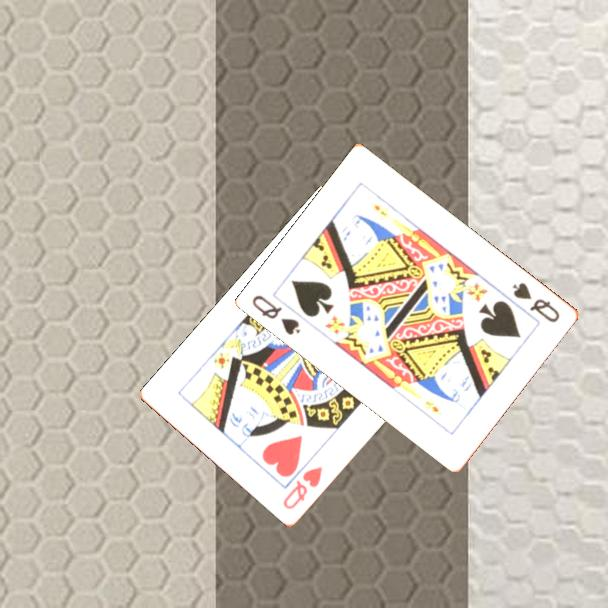h12: (279, 463, 326, 513)
s12: (249, 291, 304, 338), (509, 279, 563, 326)
